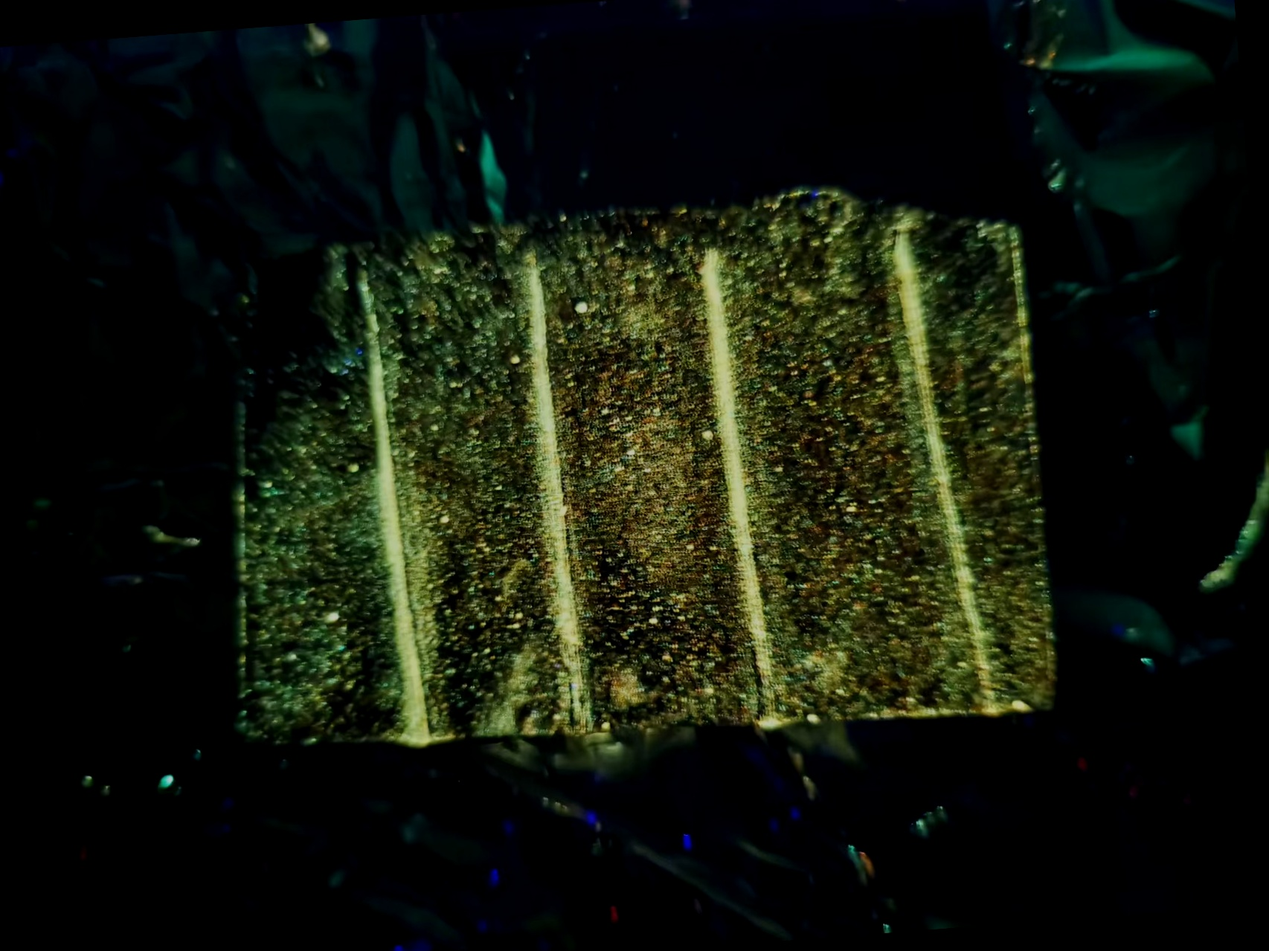Fissure: (865, 210, 1025, 721), (488, 237, 631, 746), (323, 251, 460, 752), (679, 236, 793, 716)
